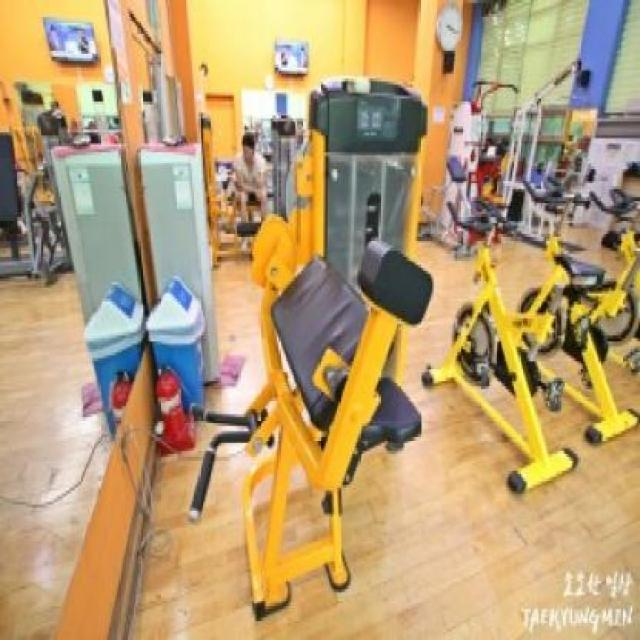arm curl machine: (192, 232, 431, 618)
